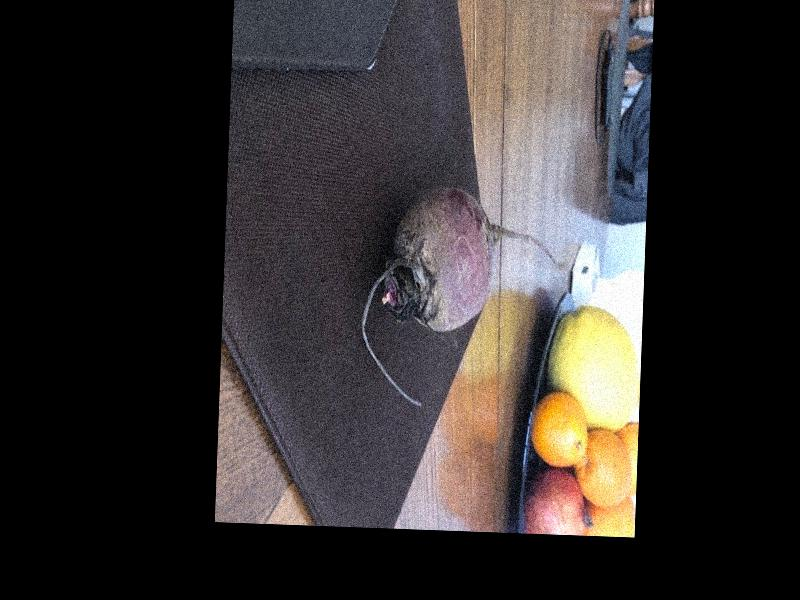Beet: (358, 184, 558, 411)
